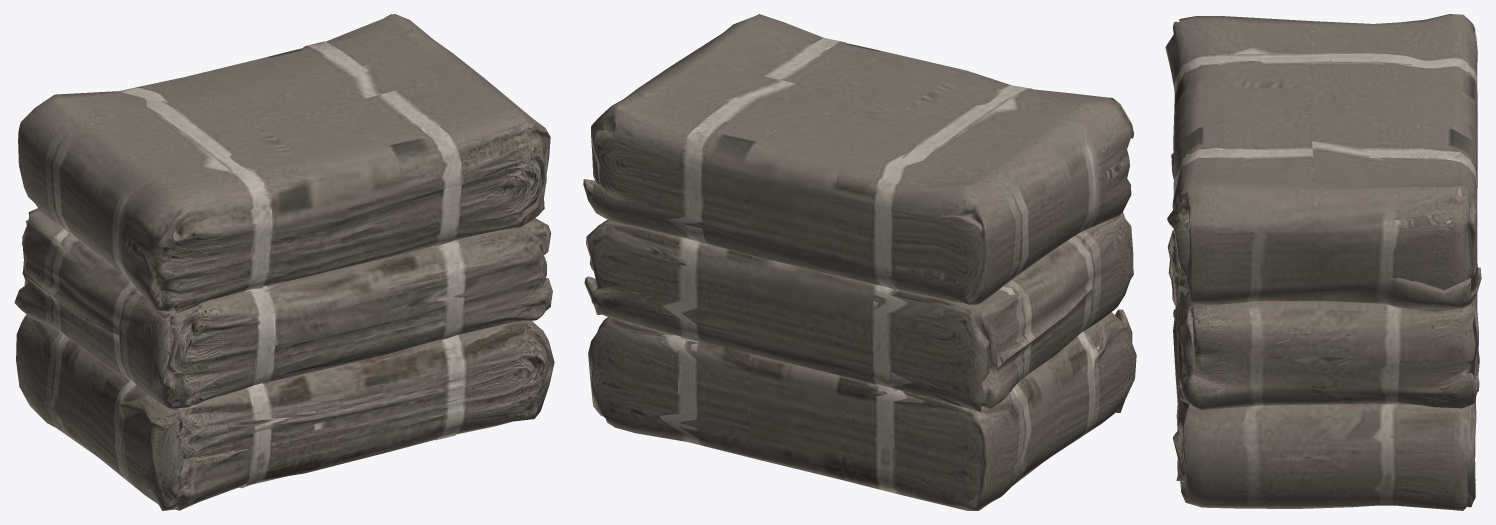
The model's file is p7-newspaper-bundles-t25.glb.
3 renders of one model, left to right at view 1: azimuth 30°, elevation 25°; view 2: azimuth 150°, elevation 25°; view 3: azimuth 270°, elevation 25°, orthographic. The views are drawn at different scales.
Visible parts, largest first — view 1: p7-newspaper-bundles-t25; view 2: p7-newspaper-bundles-t25; view 3: p7-newspaper-bundles-t25.
Part boxes in pixels (x1,y1,x2,y2): p7-newspaper-bundles-t25: (14,14,554,510); p7-newspaper-bundles-t25: (583,14,1136,510); p7-newspaper-bundles-t25: (1165,14,1481,510).
Bounding box in the file's own units: 0.61 × 0.45 × 0.397.
Materials: 1 (1 with a texture image).
